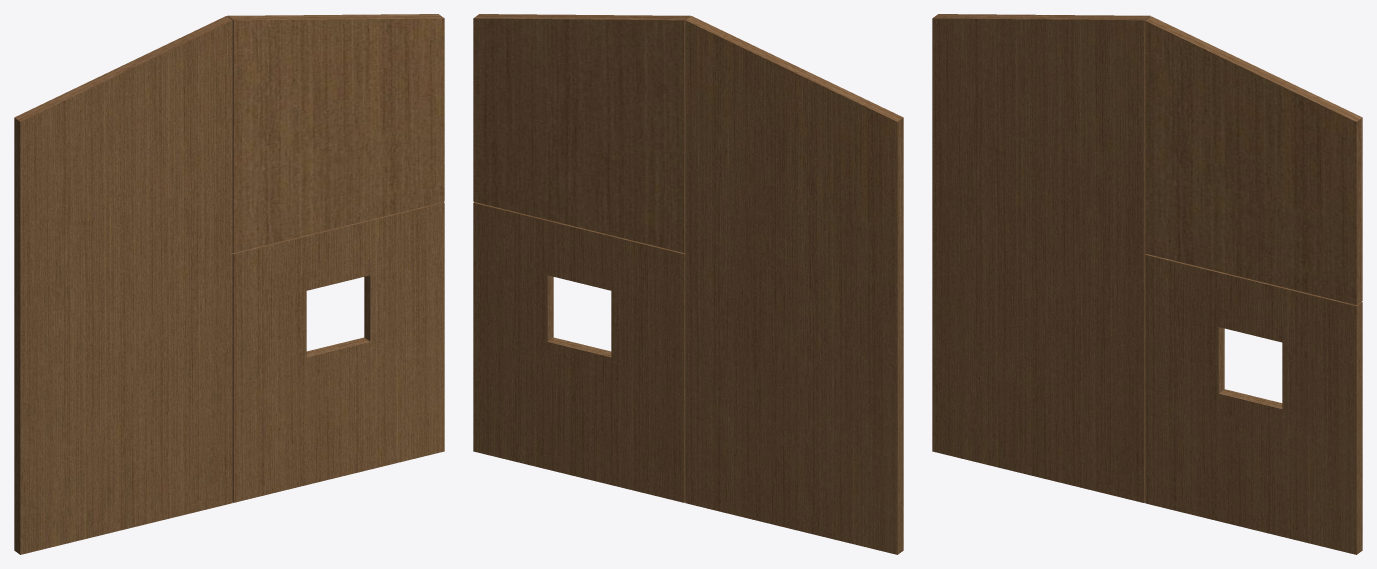
The model's file is DoorEntrance.fbx.
3 renders of one model, left to right at view 1: azimuth 30°, elevation 25°; view 2: azimuth 150°, elevation 25°; view 3: azimuth 330°, elevation 25°, orthographic.
Parts seen in each view (by area): view 1: DoorEntranceOutsideLeft, DoorEntranceInside, DoorEntranceOutsideRight; view 2: DoorEntranceOutsideLeft, DoorEntranceInside, DoorEntranceOutsideRight; view 3: DoorEntranceOutsideLeft, DoorEntranceInside, DoorEntranceOutsideRight.
Boxes of the visible parts, left/top/right/bottom form: DoorEntranceOutsideLeft: left=14, top=16, right=232, bottom=554; DoorEntranceInside: left=232, top=202, right=444, bottom=502; DoorEntranceOutsideRight: left=227, top=14, right=444, bottom=252; DoorEntranceOutsideLeft: left=685, top=16, right=903, bottom=554; DoorEntranceInside: left=473, top=202, right=685, bottom=502; DoorEntranceOutsideRight: left=473, top=14, right=690, bottom=252; DoorEntranceOutsideLeft: left=932, top=14, right=1150, bottom=502; DoorEntranceInside: left=1145, top=254, right=1362, bottom=554; DoorEntranceOutsideRight: left=1145, top=16, right=1362, bottom=304.
Size of the model in its own units: 400 by 435 by 10.
